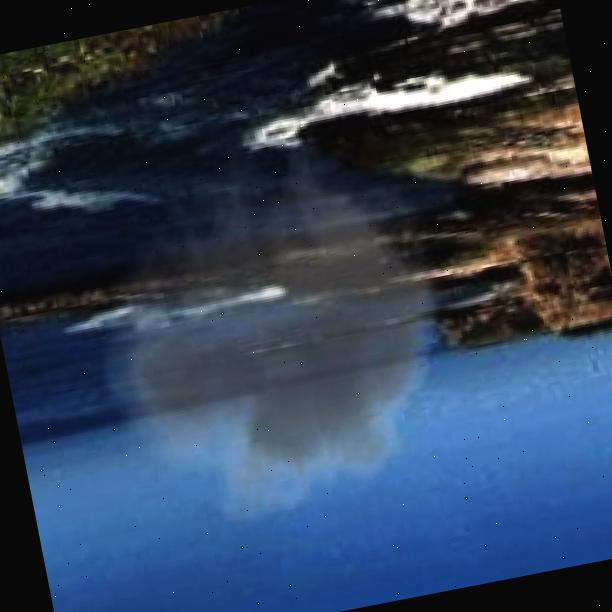smoke: (64, 111, 494, 560)
